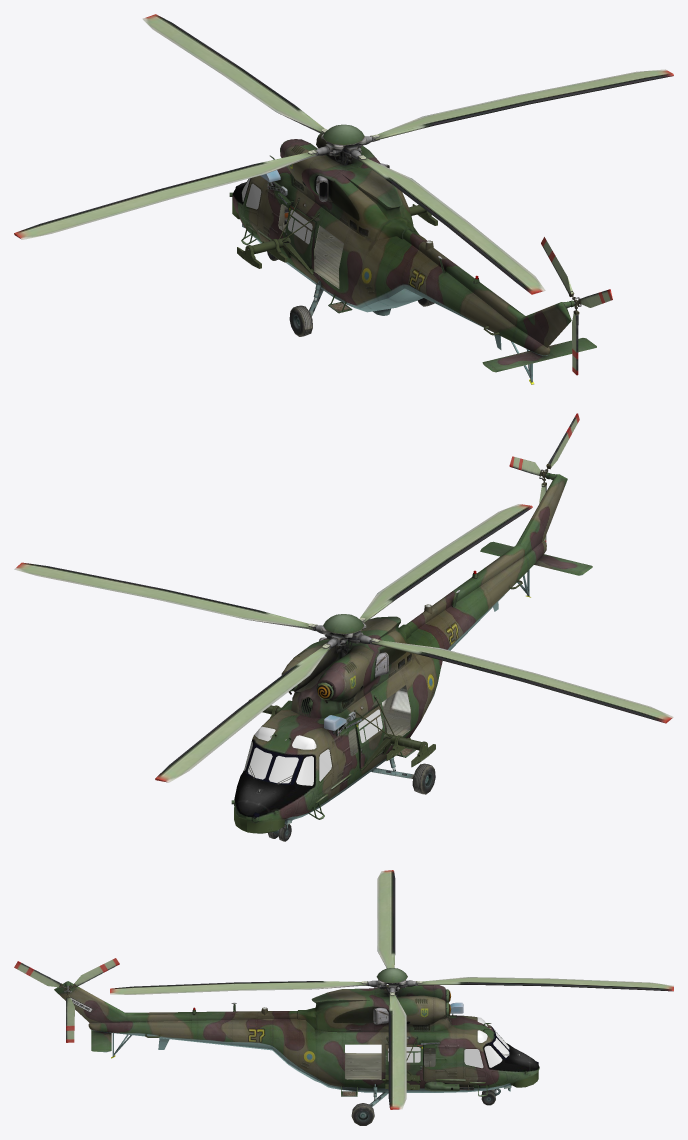
Rendered from w-3wa_sokol.glb.
The picture shows the model from 3 angles, top to bottom: view 1: azimuth 30°, elevation 25°; view 2: azimuth 150°, elevation 25°; view 3: azimuth 270°, elevation 25°; orthographic projection. The views are drawn at different scales.
Parts seen in each view (by area): view 1: ukrhe_sokol_0; view 2: ukrhe_sokol_0; view 3: ukrhe_sokol_0.
Boxes of the visible parts, x1=… form: ukrhe_sokol_0: x1=14, y1=14, x2=673, y2=384; ukrhe_sokol_0: x1=14, y1=413, x2=673, y2=841; ukrhe_sokol_0: x1=14, y1=870, x2=673, y2=1125.
Size of the model in its own units: 846 by 249 by 990.
3 materials, 2 textured.
